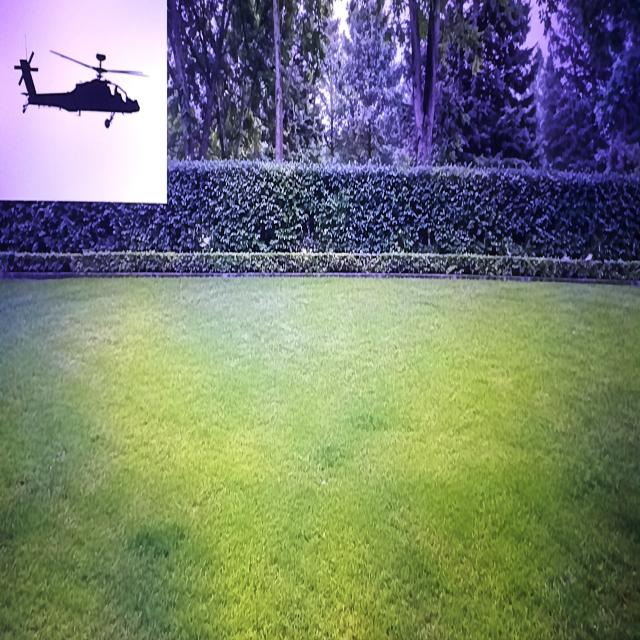Apache friendly: (15, 51, 144, 127)
